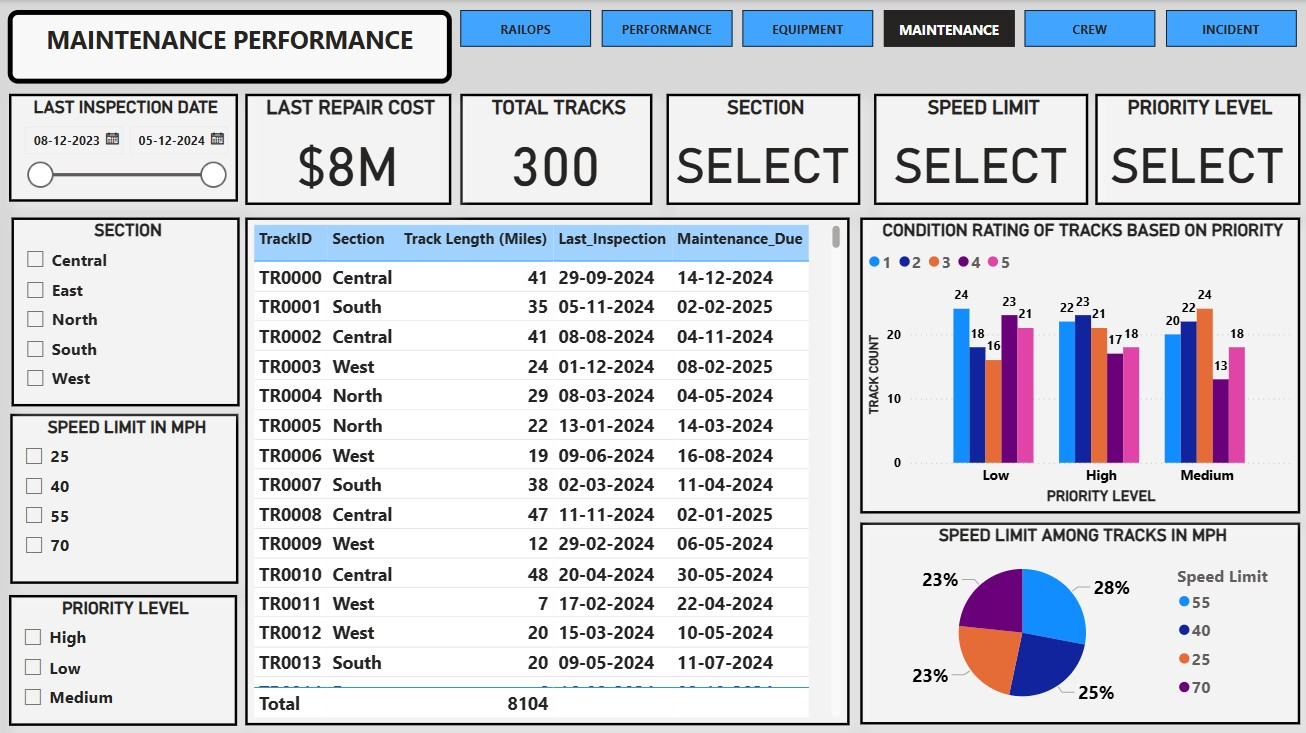

Layout of this report page (visuals, bound fields, positions):
{"tool":"powerbi","page":{"name":"MAINTENANCE","canvas":[1280,720],"ordinal":3},"visuals":[{"type":"textbox","box":[8.4,9.7,434.3,72.4],"z":0},{"type":"slicer","title":"SPEED LIMIT IN MPH","fields":{"Values":["Track_Maintenance.Speed_Limit_MPH"]},"box":[10.9,405.4,223.2,166.5],"z":1000},{"type":"slicer","title":"LAST INSPECTION DATE","fields":{"Values":["Track_Maintenance.Last_Inspection"]},"box":[9.9,91.9,223.6,105.6],"z":2000},{"type":"slicer","title":"SECTION","fields":{"Values":["Track_Maintenance.Section"]},"box":[12.1,212.3,223.2,184.6],"z":3000},{"type":"card","title":"TOTAL TRACKS","fields":{"Values":["Track_Maintenance.TOTAL_TRACKS"]},"box":[451.2,91.7,188.2,108.6],"z":4000},{"type":"card","title":"SPEED LIMIT","fields":{"Values":["Track_Maintenance.SPEED_LIMIT_SELECT"]},"box":[855.4,91.8,209.7,108.7],"z":5000},{"type":"card","title":"SECTION","fields":{"Values":["Track_Maintenance.SPEED_LIMIT_SELECT"]},"box":[652.8,91.8,189.2,108.7],"z":6000},{"type":"slicer","title":"PRIORITY LEVEL","fields":{"Values":["Track_Maintenance.Priority_Level"]},"box":[9.7,581.5,223.2,127.9],"z":7000},{"type":"card","title":"PRIORITY LEVEL","fields":{"Values":["Track_Maintenance.PRIORITY_LEVEL_SELECT"]},"box":[1072.3,91.8,200.5,108.7],"z":8000},{"type":"tableEx","fields":{"Values":["Track_Maintenance.TrackID","Track_Maintenance.Section","Sum(Track_Maintenance.Track_Length_Miles)","Track_Maintenance.Last_Inspection","Track_Maintenance.Maintenance_Due"]},"box":[241.3,212.3,591.2,497.1],"z":9000},{"type":"card","title":"LAST REPAIR COST","fields":{"Values":["Sum(Track_Maintenance.Last_Repair_Cost)"]},"box":[241.3,91.7,201.5,108.6],"z":10000},{"type":"pieChart","title":"SPEED LIMIT AMONG TRACKS IN MPH","fields":{"Category":["Track_Maintenance.Speed_Limit_MPH"],"Y":["Track_Maintenance.TOTAL_TRACKS"]},"box":[842.1,511.5,430.7,197.9],"z":11000},{"type":"clusteredColumnChart","title":"CONDITION RATING OF TRACKS  BASED ON PRIORITY","fields":{"Category":["Track_Maintenance.Priority_Level"],"Y":["CountNonNull(Track_Maintenance.TrackID)"],"Series":["Track_Maintenance.Condition_Rating"]},"box":[842.1,212.3,430.7,289.5],"z":12000},{"type":"pageNavigator","box":[450.9,10.2,821.8,36.4],"z":13000}]}

Visuals, with their boxes in screenshot pixels (x1, y1, x2, y2), scaled from the page's 1280x720 canvas onto the 1306x733 screenshot:
textbox: (x1=9, y1=10, x2=452, y2=84)
"SPEED LIMIT IN MPH" slicer: (x1=11, y1=413, x2=239, y2=582)
"LAST INSPECTION DATE" slicer: (x1=10, y1=94, x2=238, y2=201)
"SECTION" slicer: (x1=12, y1=216, x2=240, y2=404)
"TOTAL TRACKS" card: (x1=460, y1=93, x2=652, y2=204)
"SPEED LIMIT" card: (x1=873, y1=93, x2=1087, y2=204)
"SECTION" card: (x1=666, y1=93, x2=859, y2=204)
"PRIORITY LEVEL" slicer: (x1=10, y1=592, x2=238, y2=722)
"PRIORITY LEVEL" card: (x1=1094, y1=93, x2=1299, y2=204)
tableEx - Track_Maintenance.TrackID x Track_Maintenance.Section: (x1=246, y1=216, x2=849, y2=722)
"LAST REPAIR COST" card: (x1=246, y1=93, x2=452, y2=204)
"SPEED LIMIT AMONG TRACKS IN MPH" pieChart: (x1=859, y1=521, x2=1299, y2=722)
"CONDITION RATING OF TRACKS  BASED ON PRIORITY" clusteredColumnChart: (x1=859, y1=216, x2=1299, y2=511)
pageNavigator: (x1=460, y1=10, x2=1299, y2=47)
